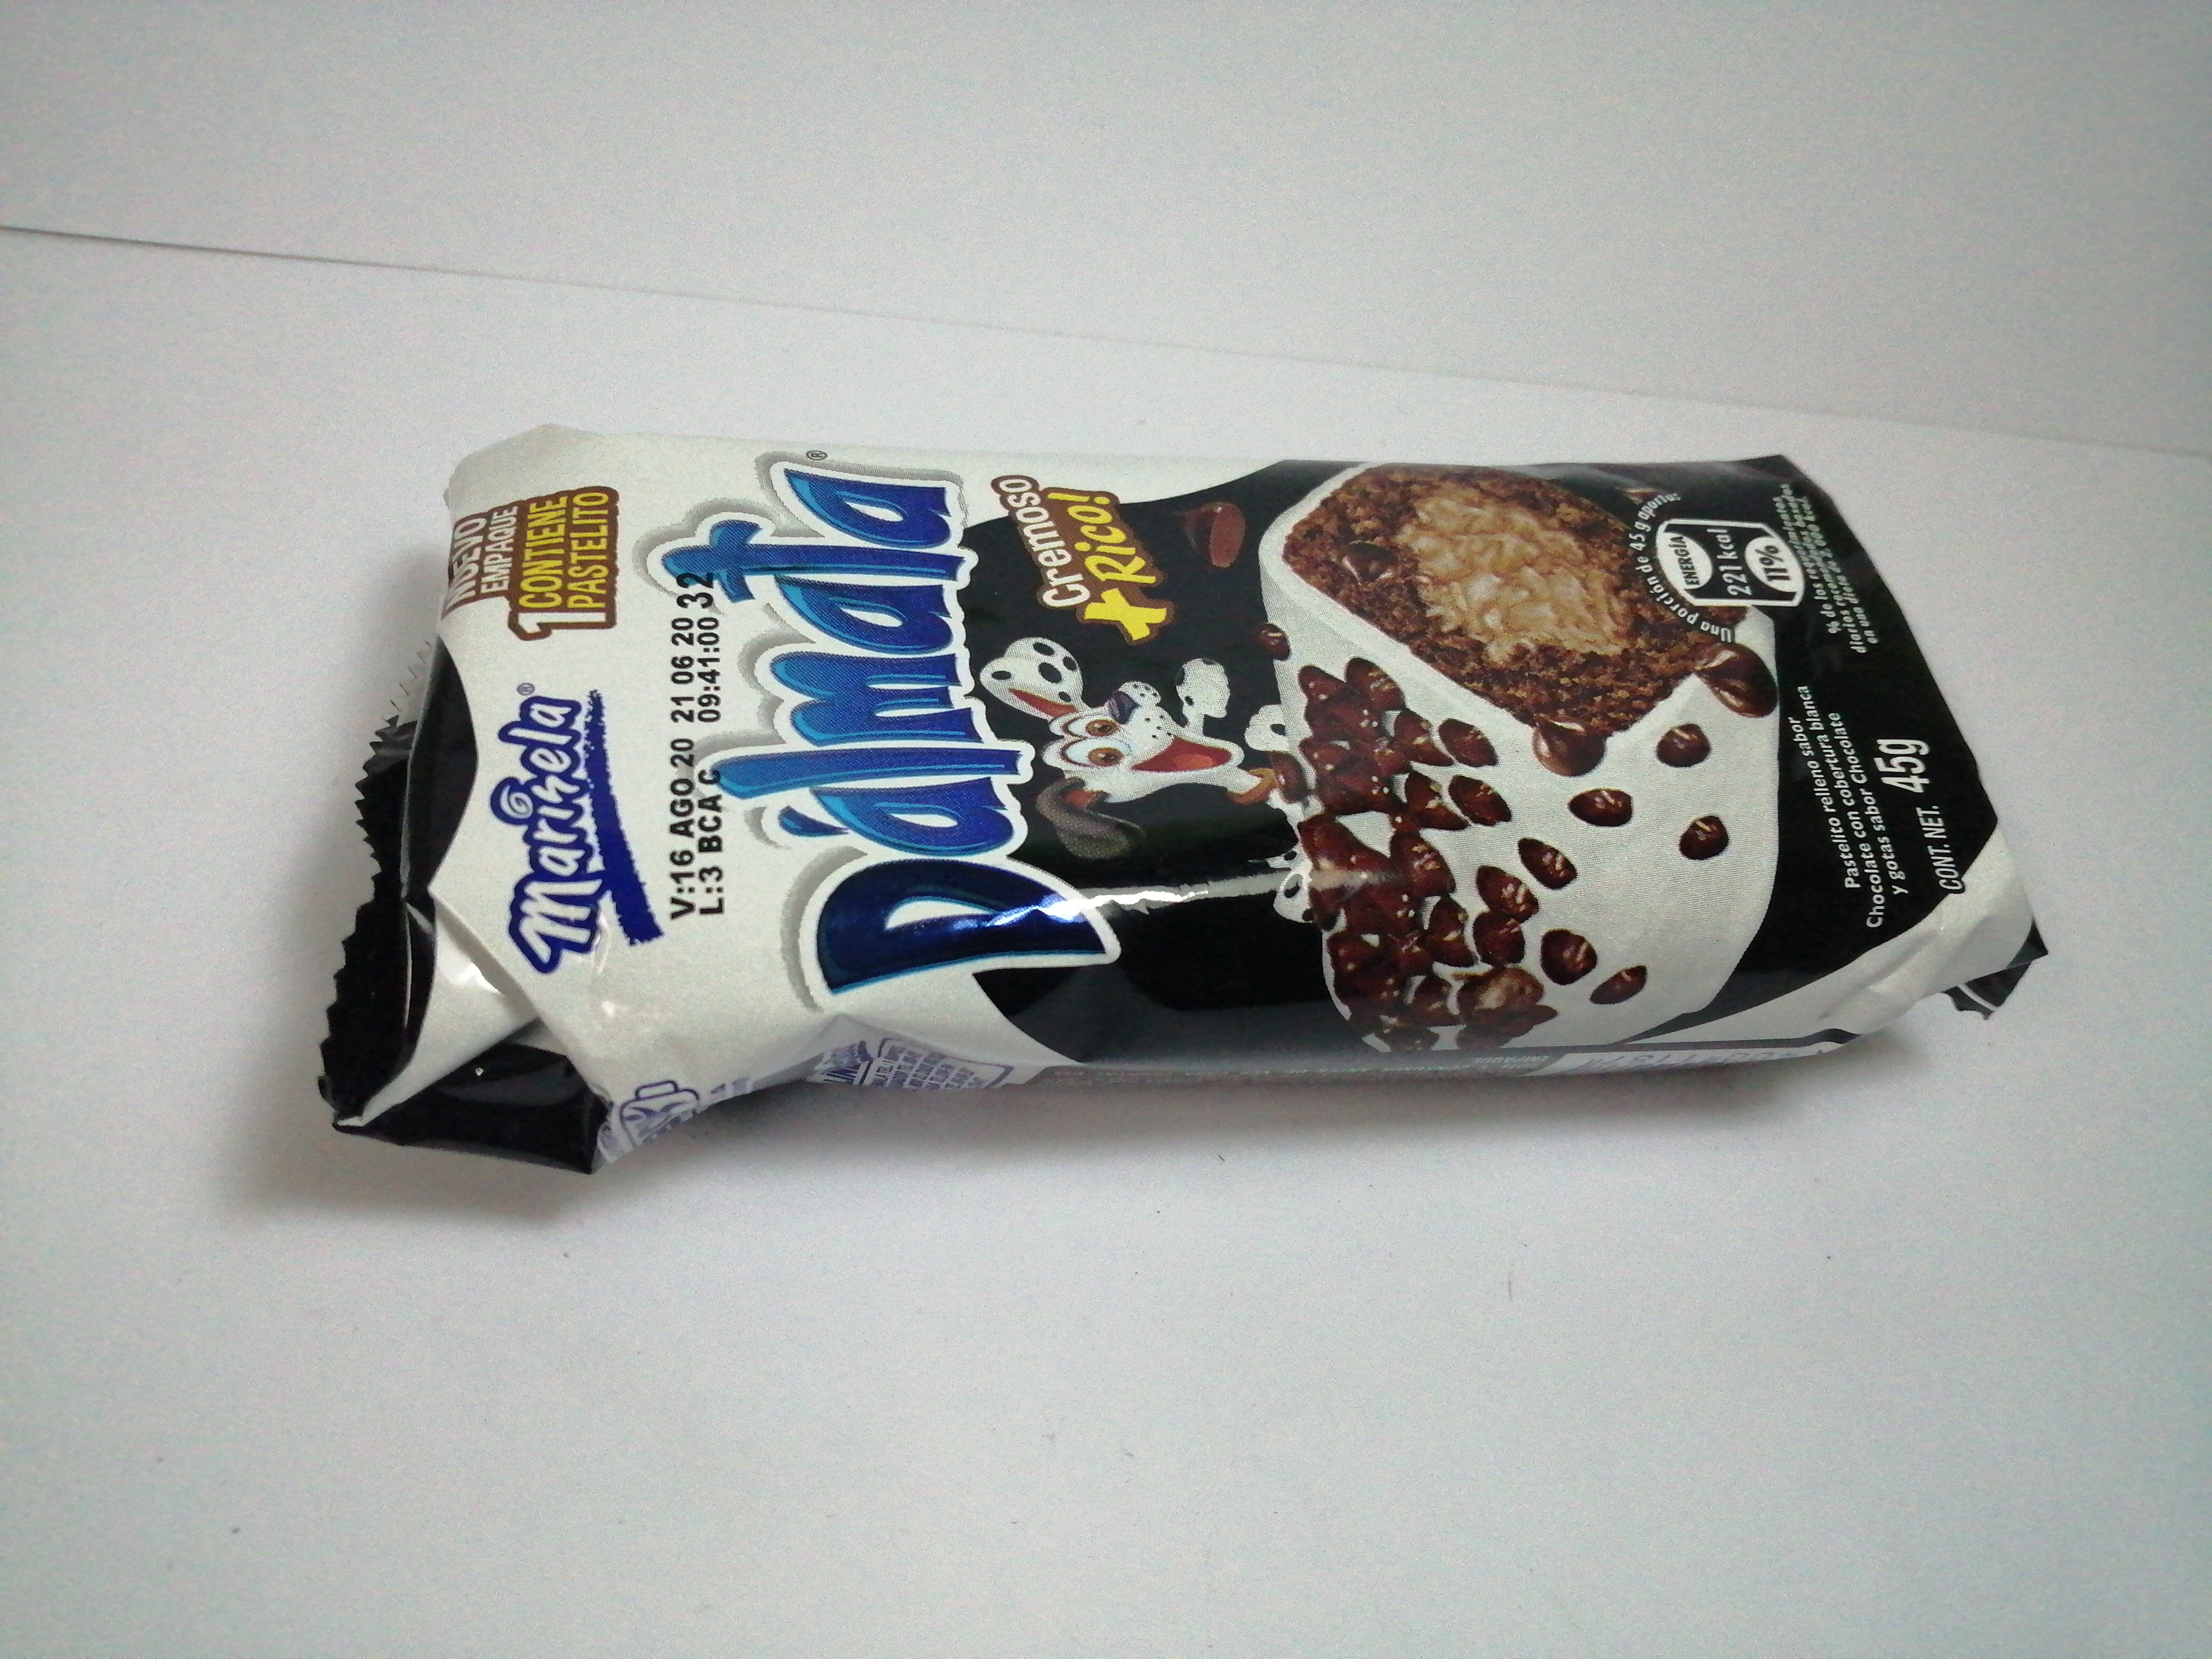dalmata: (308, 397, 2064, 1211)
